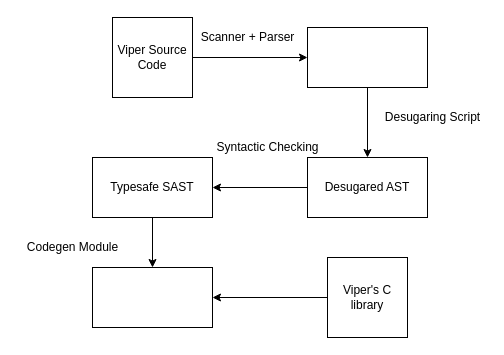
Image size: 504x355. Some labels were removed from this diagram. The shapes that lost their labels are listed below. From the top down, each one's centre as x and y in pixels, then its label:
At (x=367, y=57): "Abstract Syntax Tree".
At (x=152, y=297): "LLVM".
